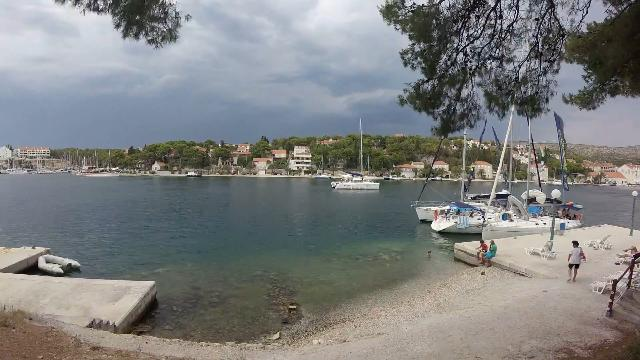Sailboat: (329, 174, 383, 194)
